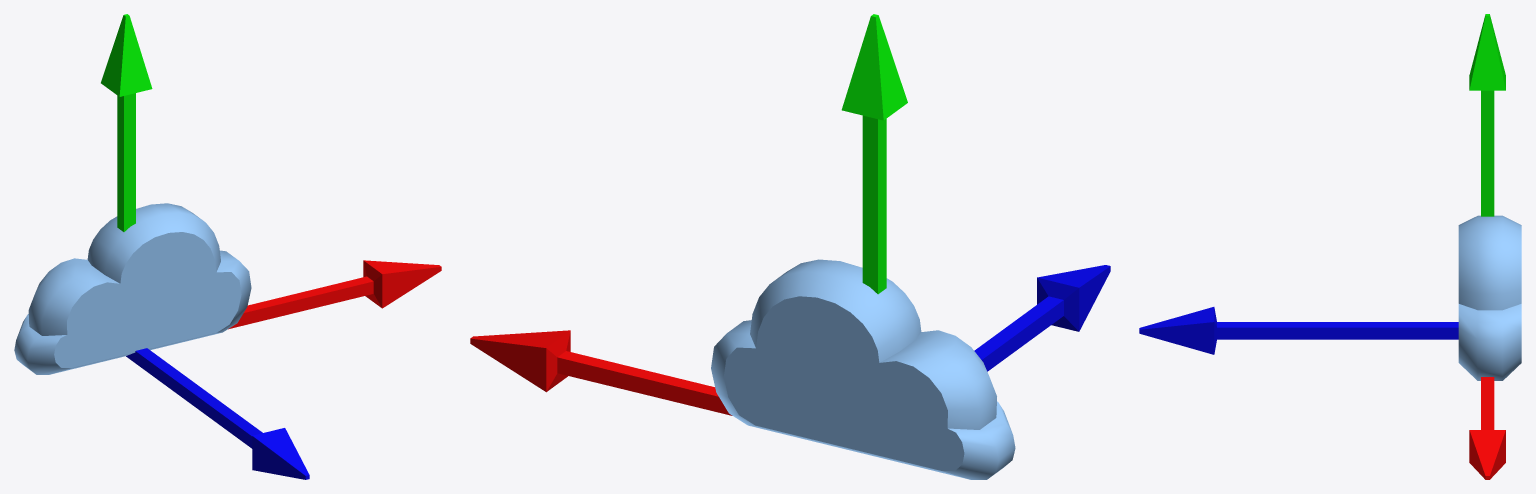
The model's file is cloud_anchor.fbx.
The picture shows the model from 3 angles, left to right: view 1: azimuth 30°, elevation 25°; view 2: azimuth 150°, elevation 25°; view 3: azimuth 270°, elevation 25°; orthographic projection. The views are drawn at different scales.
Parts seen in each view (by area): view 1: anchor; view 2: anchor; view 3: anchor.
Part boxes in pixels (box(x1,y1,x2,y2)): anchor: box(14, 14, 441, 479); anchor: box(470, 14, 1110, 479); anchor: box(1139, 14, 1521, 479).
Bounding box in the file's own units: 133 × 110 × 105.
